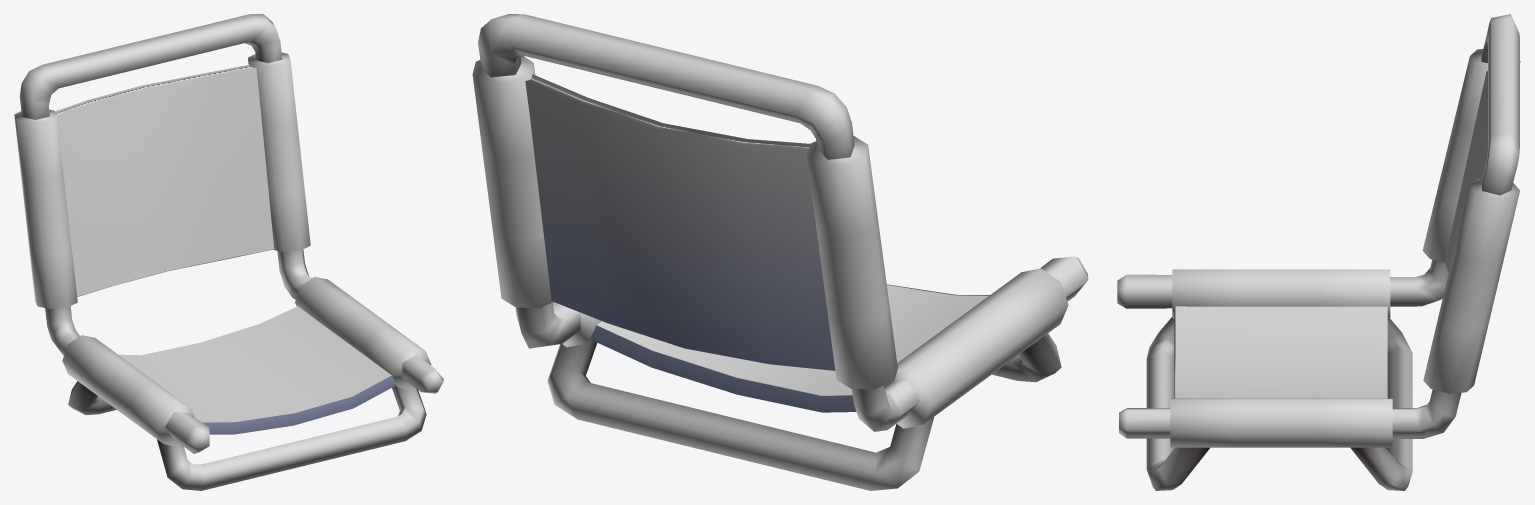
The model's file is BeachChair_0.glb.
The picture shows the model from 3 angles, left to right: view 1: azimuth 30°, elevation 25°; view 2: azimuth 150°, elevation 25°; view 3: azimuth 270°, elevation 25°; orthographic projection. The views are drawn at different scales.
Parts seen in each view (by area): view 1: BeachChair; view 2: BeachChair; view 3: BeachChair.
Boxes of the visible parts, x1,y1,x2,y2 form: BeachChair: (14, 14, 443, 490); BeachChair: (472, 14, 1088, 490); BeachChair: (1117, 14, 1520, 490).
Bounding box in the file's own units: 82.58 × 90.15 × 93.02.
